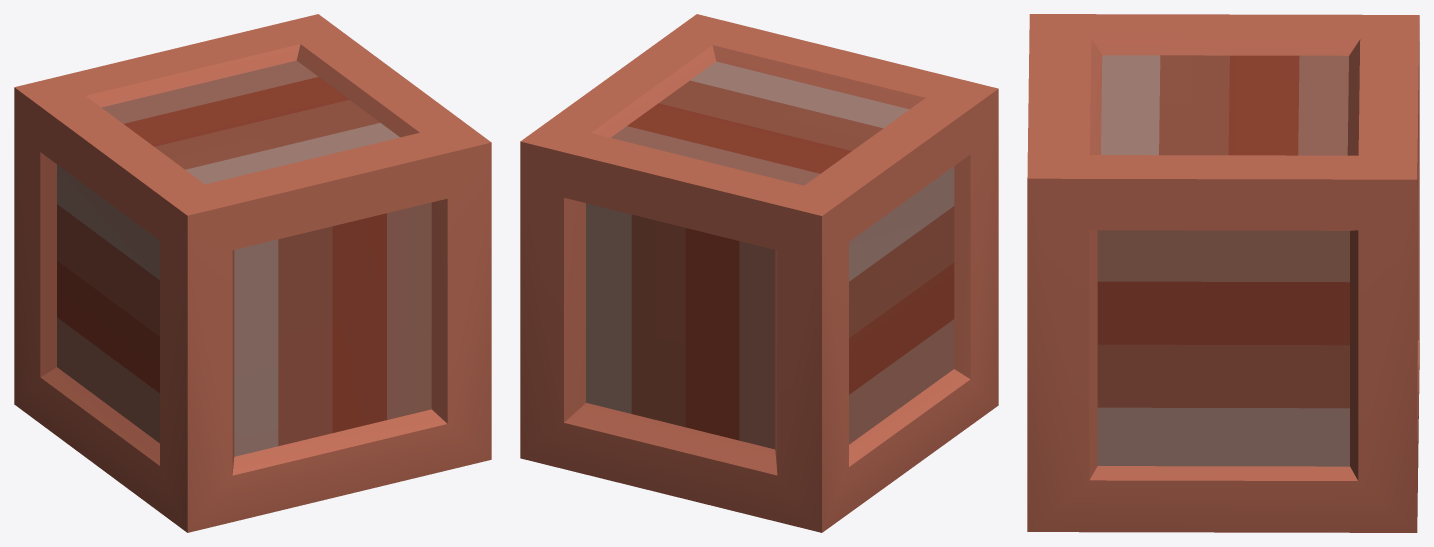
The model's file is prop_023.glb.
3 views of the same model, side by side, from view 1: azimuth 30°, elevation 25°; view 2: azimuth 150°, elevation 25°; view 3: azimuth 270°, elevation 25° (orthographic). The views are drawn at different scales.
Visible parts, largest first — view 1: prop.023; view 2: prop.023; view 3: prop.023.
Boxes of the visible parts, x1,y1,x2,y2 form: prop.023: [14, 14, 491, 532]; prop.023: [520, 14, 998, 532]; prop.023: [1027, 14, 1419, 532].
Bounding box in the file's own units: 0.6531 × 0.6493 × 0.653.
Materials: 1 (1 with a texture image).
